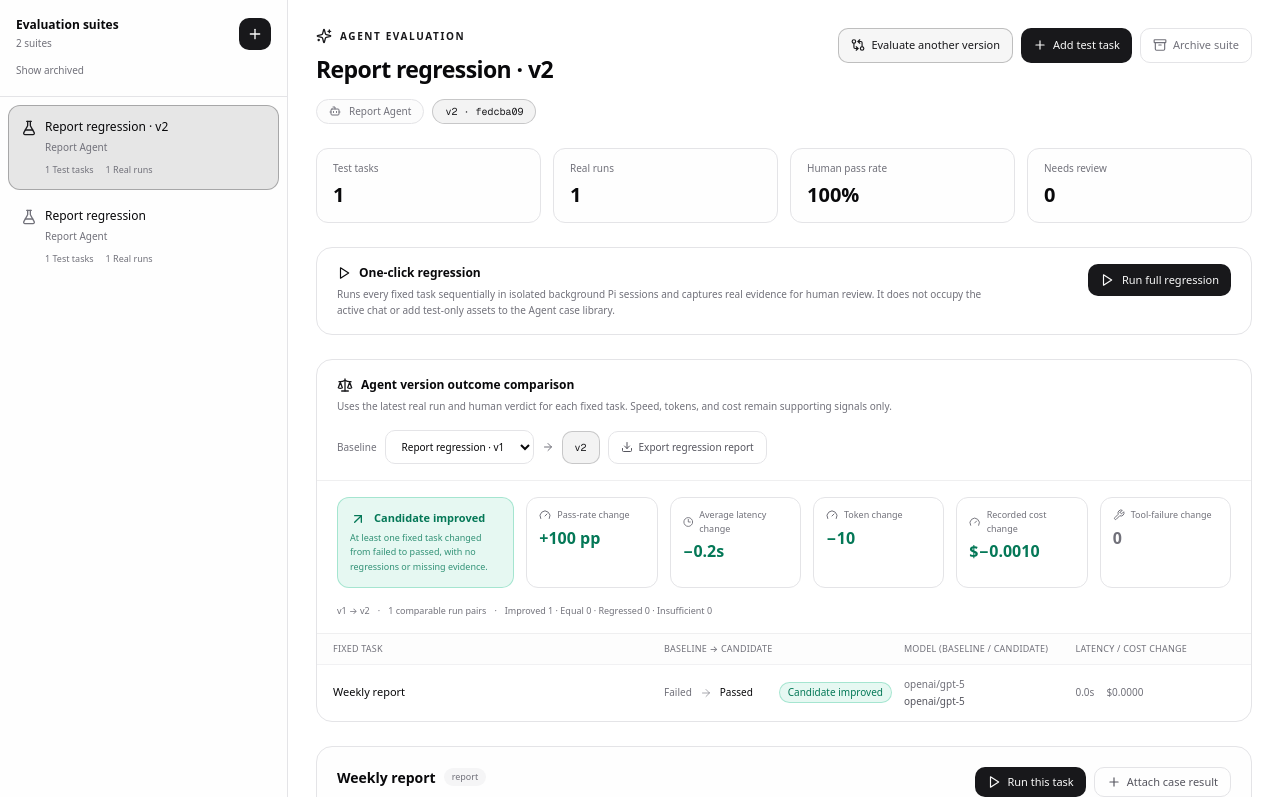
AgentEvaluationsPage › shows a conservative task-level comparison against the baseline version
Check: the text "Agent version outcome comparison" is shown, box [337,376,574,393]
Check: the text "Candidate improved" is shown, box [350,510,501,527]
Click the button "Export regression report" at (687, 447), box [608,431,767,464]
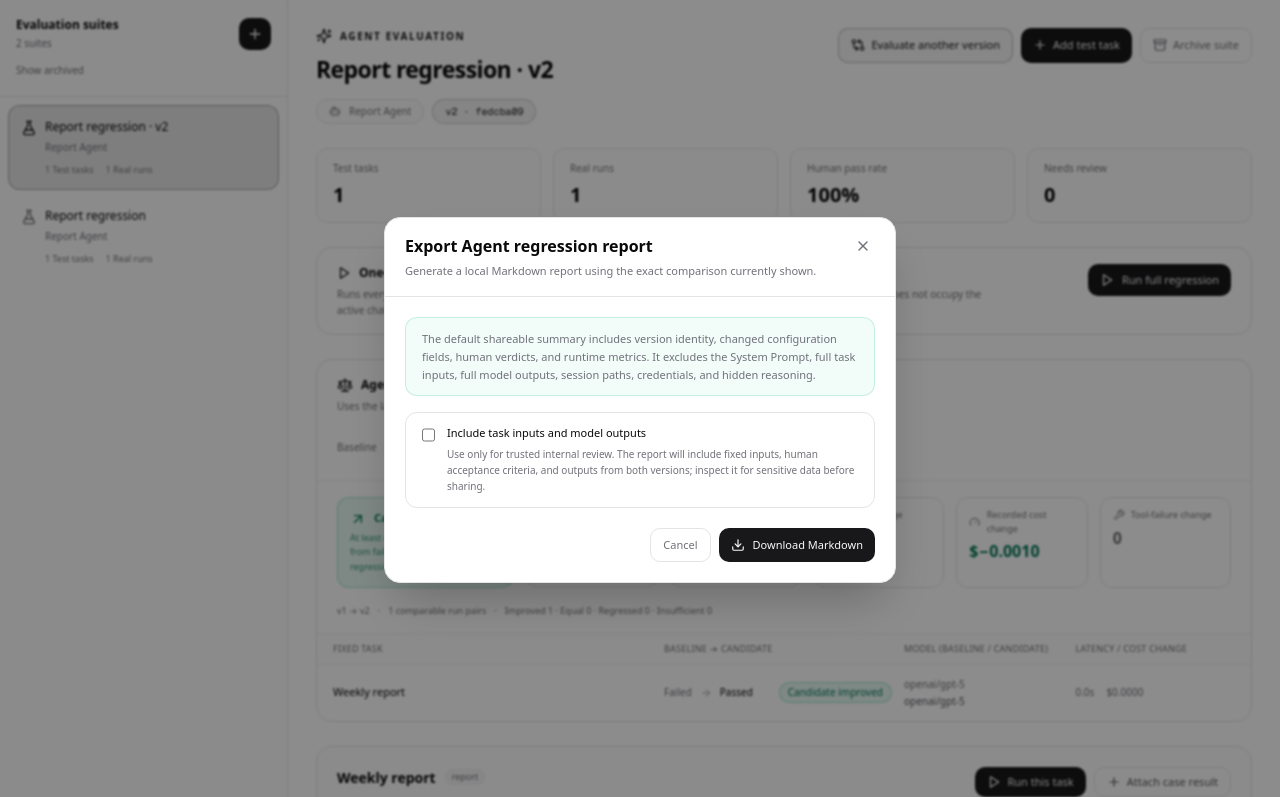
Check: the dialog "Export Agent regression report" is shown, box [384,217,896,583]
Check: the text "default shareable summary" is shown, box [422,331,856,382]
